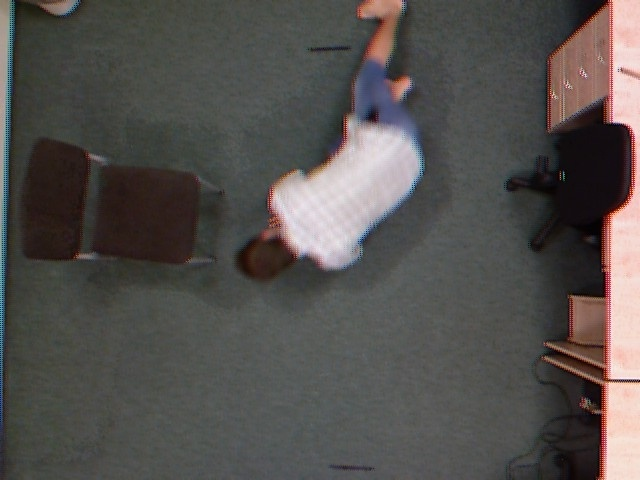fall: (226, 0, 438, 286)
